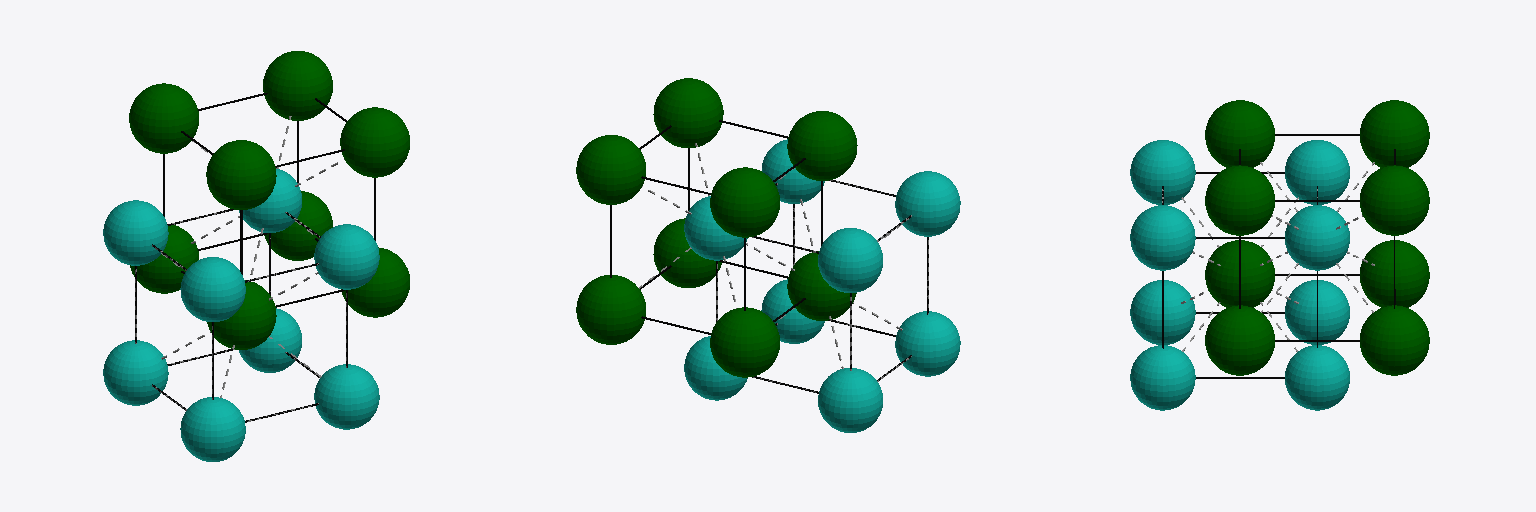
Rendered from cscl.obj.
The picture shows the model from 3 angles: view 1: azimuth 30°, elevation 25°; view 2: azimuth 150°, elevation 25°; view 3: azimuth 270°, elevation 25°; orthographic projection.
Visible parts, largest first — view 1: Sphere074, Sphere071, Object001; view 2: Sphere071, Sphere074, Object001; view 3: Sphere074, Sphere071, Object001.
Part boxes in pixels (x1,y1,x2,y2): Sphere074: (103,169,379,461); Sphere071: (129,51,409,317); Object001: (135,209,347,422); Sphere071: (576,78,857,377); Sphere074: (684,139,960,432); Object001: (716,180,928,393); Sphere074: (1130,140,1349,410); Sphere071: (1205,100,1429,375); Object001: (1162,172,1317,378).
Size of the model in its own units: 96.4 by 96.33 by 96.38.